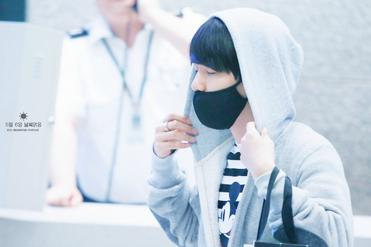WRONG: (192, 58, 250, 129)
